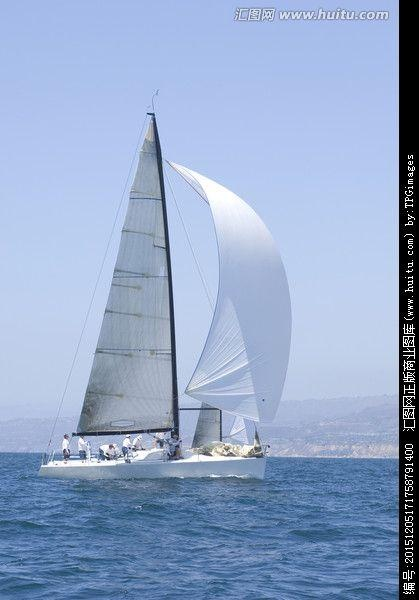fanchuan: (27, 97, 328, 483)
